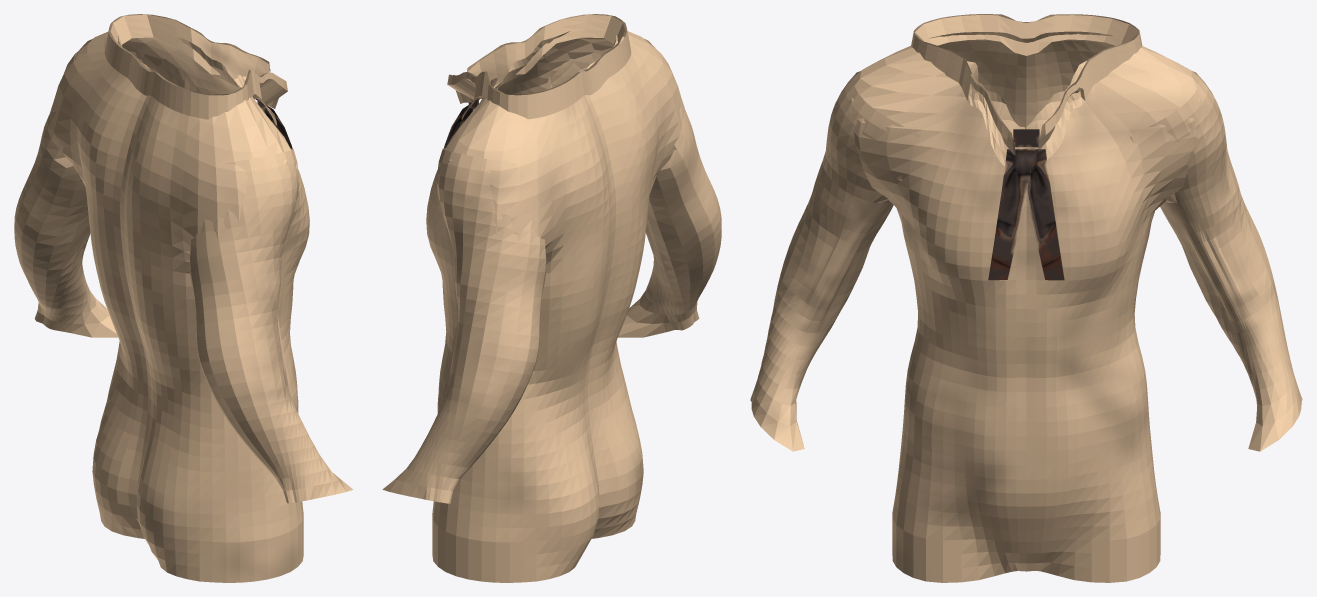
File: bold_cowboy_mhmade_shirt.glb
3 views of the same model, side by side, from view 1: azimuth 30°, elevation 25°; view 2: azimuth 150°, elevation 25°; view 3: azimuth 270°, elevation 25° (orthographic). The views are drawn at different scales.
Visible parts, largest first — view 1: shirt; view 2: shirt; view 3: shirt.
Part boxes in pixels (box(x1,y1,x2,y2)): shirt: box(14, 14, 353, 582); shirt: box(382, 14, 721, 582); shirt: box(750, 14, 1302, 582).
Bounding box in the file's own units: 0.1547 × 0.4071 × 0.4002.
1 material, 1 textured.
